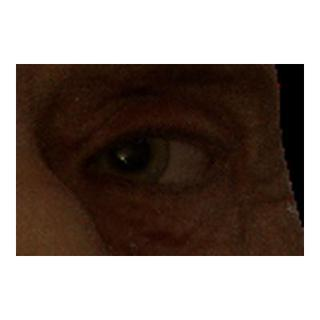pupil: (111, 132, 150, 171)
